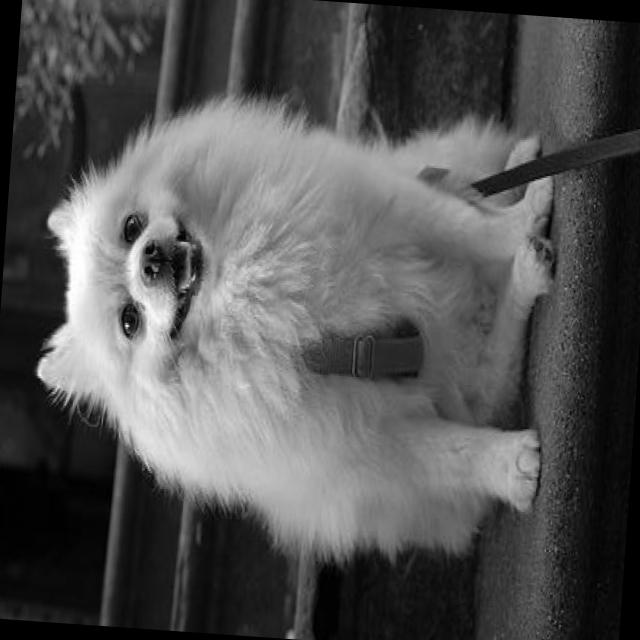sitting: (18, 66, 570, 575)
